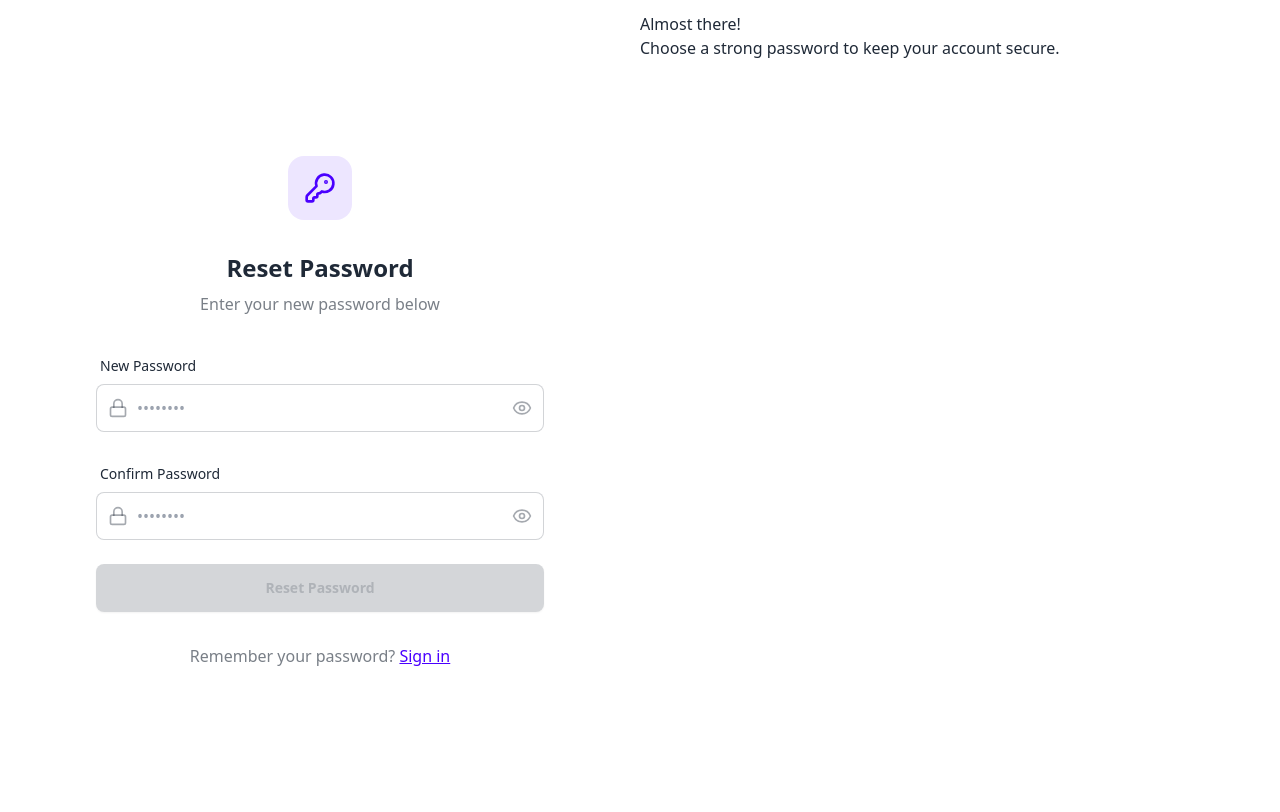
Scenario: ResetPassword Page › Reset Mode (with token) › should show error when password does not meet complexity requirements
In the 1st password field with placeholder "••••••••": (320,408) x1=96 y1=384 x2=544 y2=432, type "weak"
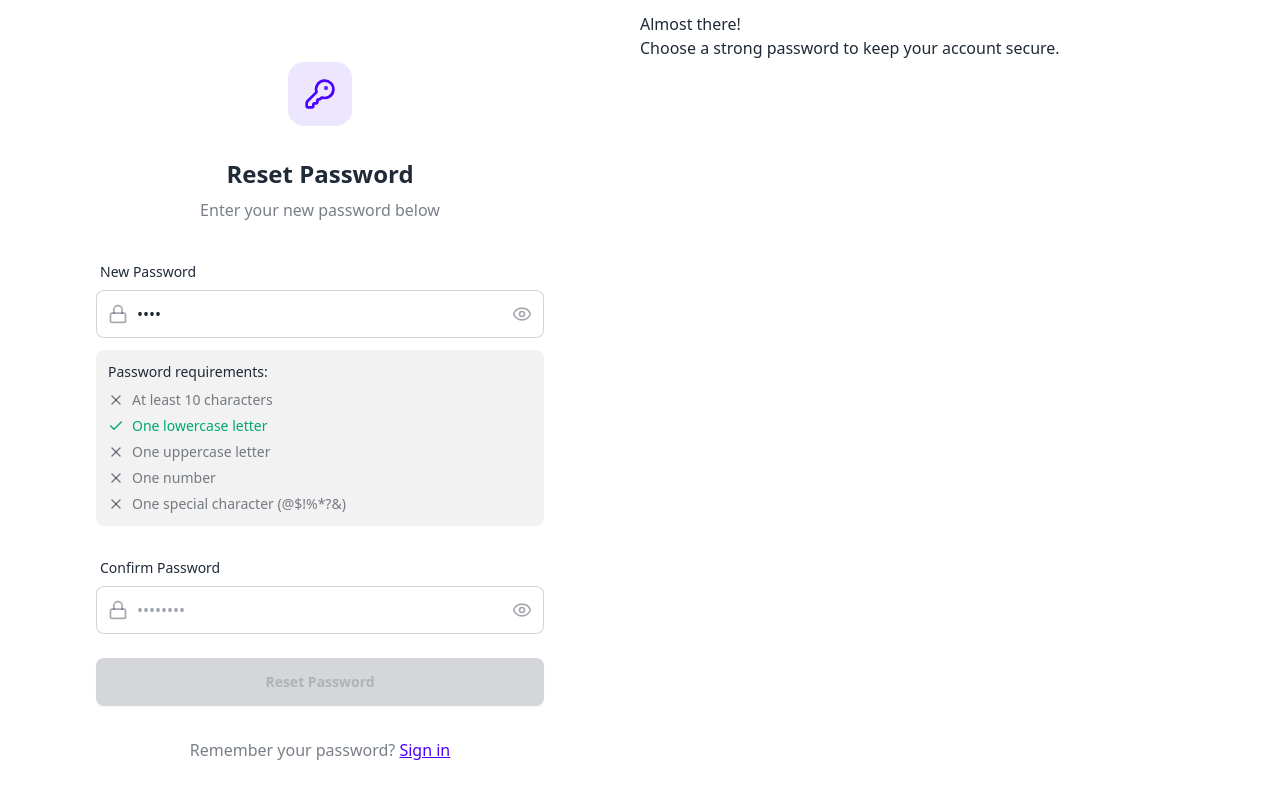
In the password field with placeholder "••••••••": (320,610) x1=96 y1=586 x2=544 y2=634, type "weak"
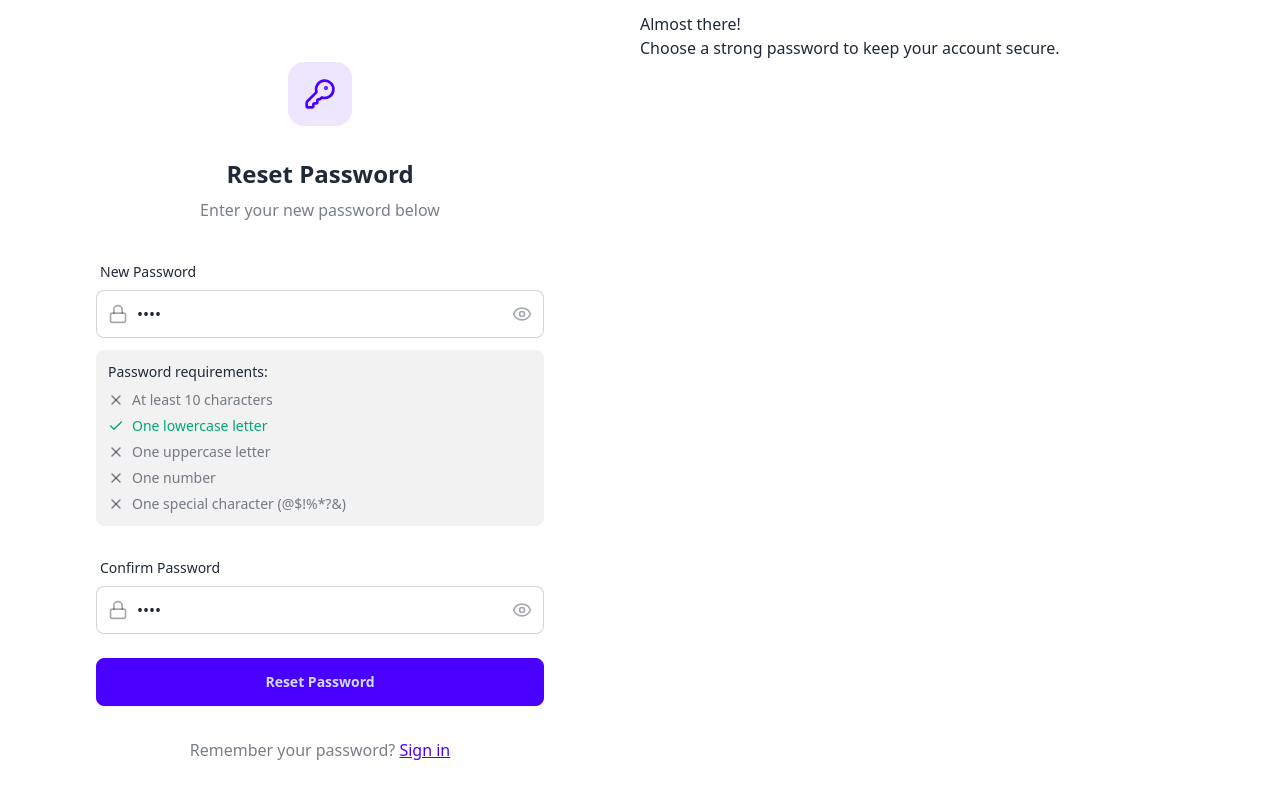
Click the button "Reset Password": (320,682) x1=96 y1=658 x2=544 y2=706
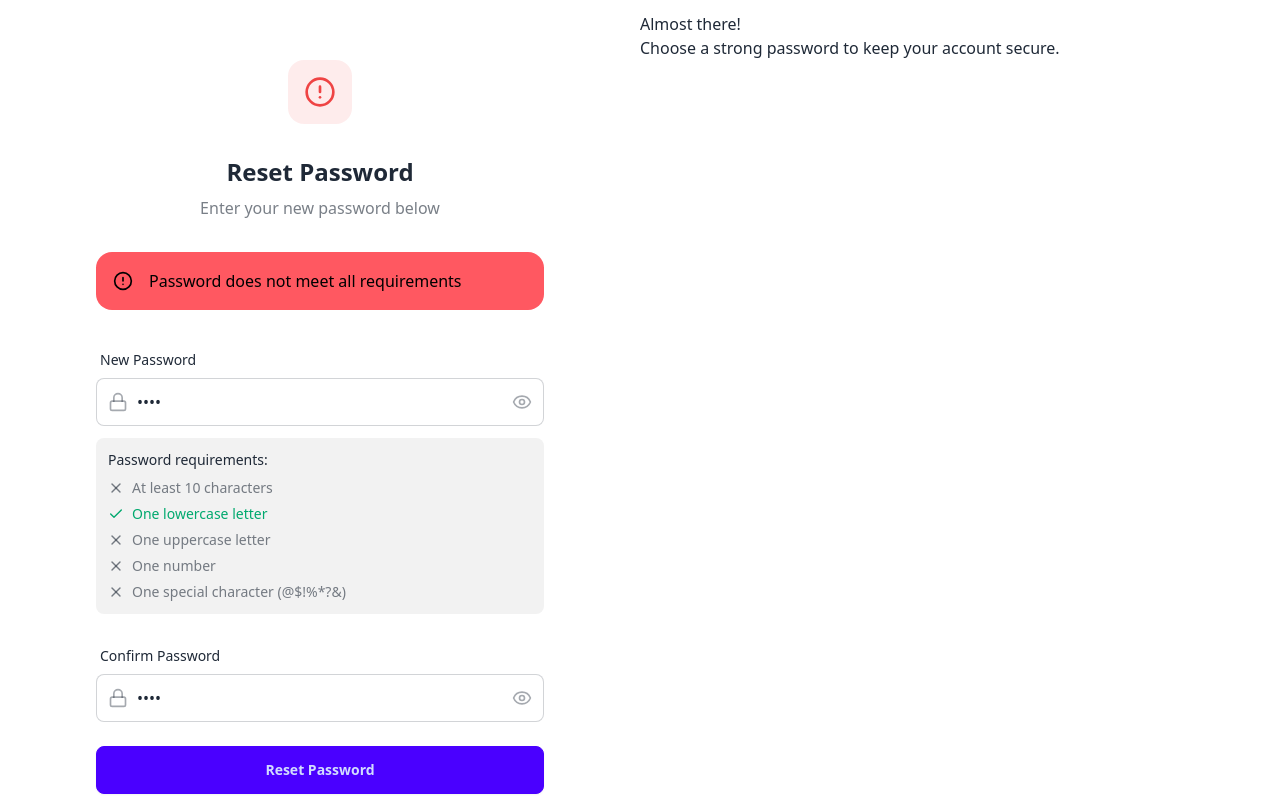
Check: the text "Password does not meet all requirements" is shown, box x1=149 y1=269 x2=462 y2=293
